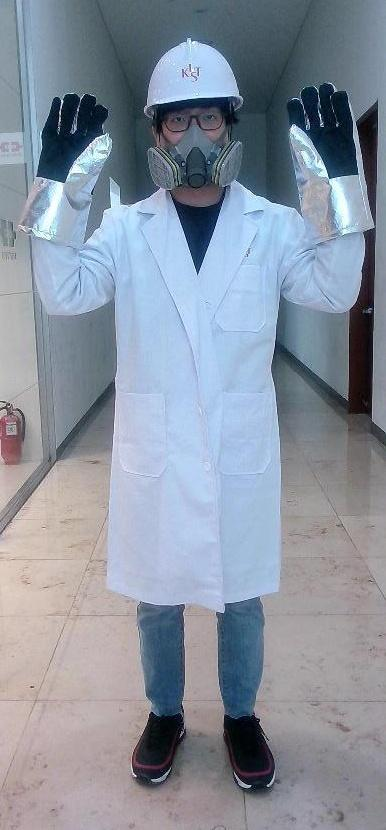lab_coat: (86, 200, 299, 598)
